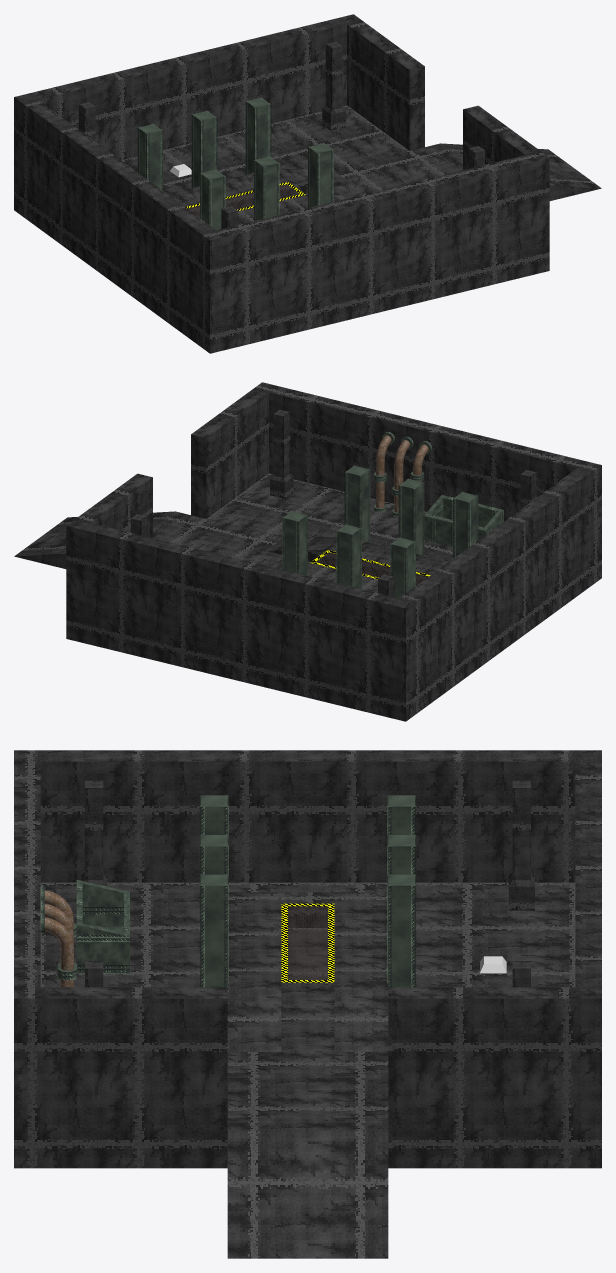
File: shop.glb
3 views of the same model, one above another, from view 1: azimuth 30°, elevation 25°; view 2: azimuth 150°, elevation 25°; view 3: azimuth 270°, elevation 25° (orthographic). The views are drawn at different scales.
Visible parts, largest first — view 1: ShopWalls -col, Floor, PlatformPillar.001, Platform, Ramp -col, Pillar.003, Grid, Pillar.001; view 2: ShopWalls -col, Floor, PlatformPillar.001, Platform, Ramp -col, Bin, Pillar, Grid, Pipe, Pillar.002, Pipe.001; view 3: ShopWalls -col, Floor, Ramp -col, Platform, PlatformPillar.001, Bin, Grid, Pillar.001, Pillar.002, Pipe.
Part boxes in pixels (box(x1,y1,x2,y2)): ShopWalls -col: box(14, 14, 549, 353); Floor: box(121, 105, 442, 195); PlatformPillar.001: box(137, 97, 333, 230); Platform: box(167, 169, 357, 224); Ramp -col: box(410, 143, 601, 200); Pillar.003: box(322, 41, 345, 130); Grid: box(185, 182, 305, 217); Pillar.001: box(78, 102, 95, 140); ShopWalls -col: box(66, 382, 601, 721); Floor: box(173, 473, 452, 563); PlatformPillar.001: box(282, 465, 478, 598); Platform: box(258, 537, 448, 592); Ramp -col: box(14, 511, 205, 568); Bin: box(424, 495, 503, 546); Pillar: box(270, 409, 293, 498); Grid: box(310, 550, 430, 585); Pipe: box(376, 435, 391, 508); Pillar.002: box(520, 470, 537, 508); Pipe.001: box(394, 440, 409, 512); ShopWalls -col: box(14, 750, 601, 1168); Floor: box(40, 882, 575, 1108); Ramp -col: box(227, 1108, 388, 1258); Platform: box(227, 892, 388, 1051); PlatformPillar.001: box(200, 795, 415, 987); Bin: box(76, 879, 129, 973); Grid: box(281, 903, 334, 982); Pillar.001: box(508, 780, 534, 910); Pillar.002: box(81, 780, 107, 886); Pipe: box(45, 917, 73, 987).
Size of what is drawn, in the model's own units: 30 by 7 by 22.
5 materials, 5 textured.
